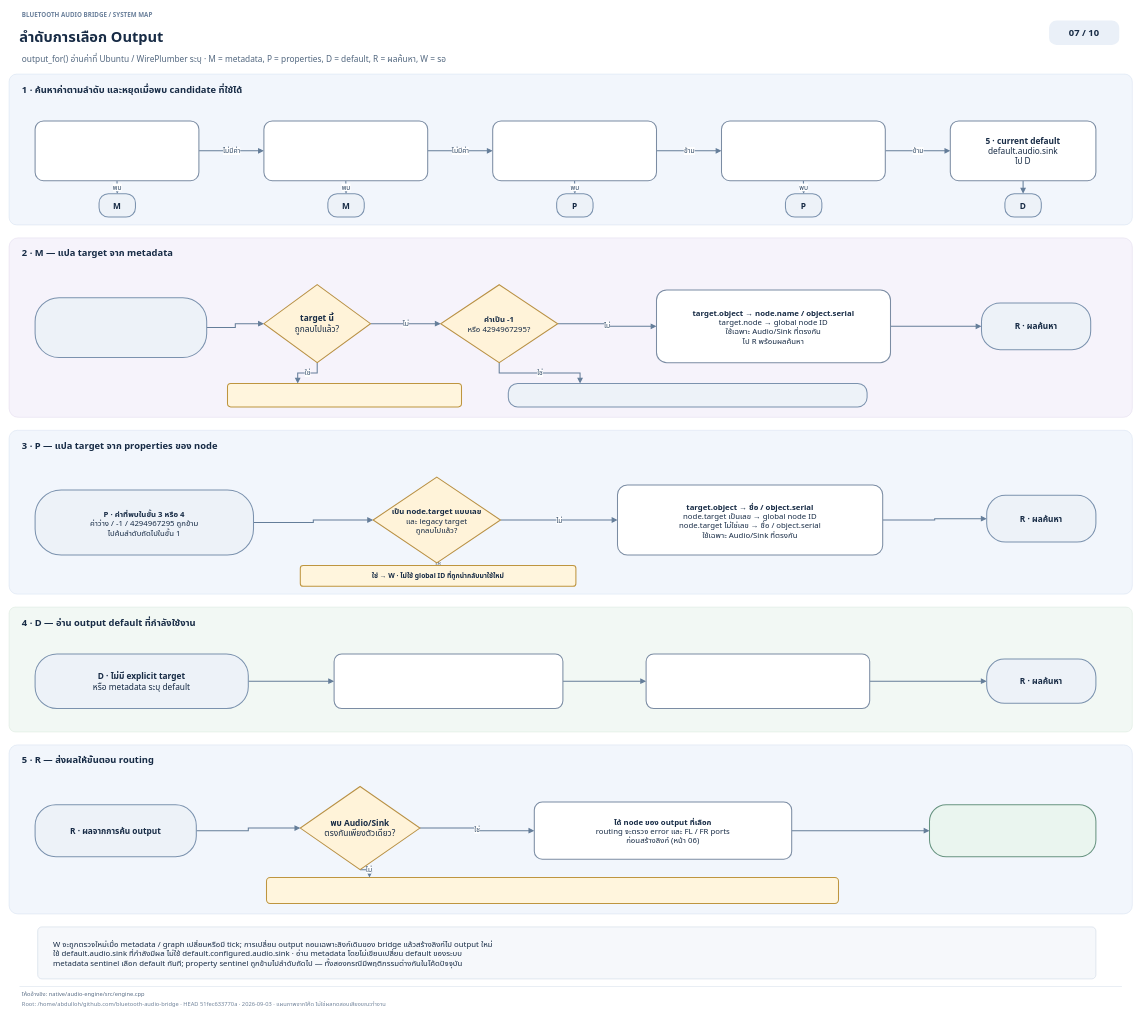
Image size: 1141x1016. Some labels were removed from this diagram. The shapes that lost their labels are listed below. From the top down, each one's centre as x and y in pixels, then its label:
At (116,150): "1 · metadata ของ stream target.object ค่าที่ไม่ว่าง → M".
At (345,150): "2 · metadata ของ stream target.node ค่าที่ไม่ว่าง → M".
At (574,150): "3 · property ของ node target.object ค่าไม่ว่างและไม่ใช่ sentinel → P".
At (803,150): "4 · property ของ node node.target ค่าไม่ว่างและไม่ใช่ sentinel → P".
At (120,327): "M · ค่าที่พบในขั้น 1 หรือ 2 ตรวจสถานะ target_removed ก่อน".
At (344,395): "ใช่ → W · รอ target ใหม่".
At (687,395): "ใช่ → D · ใช้ default ทันที ไม่อ่าน target ลำดับถัดไป".
At (448,681): "อ่าน metadata subject 0 default.audio.sink ดึงชื่อ node จากค่า JSON".
At (757,681): "ค้น Audio/Sink ด้วย node.name / object.serial".
At (1012,830): "คืน output ให้ input นี้".
At (552,890): "ไม่ → W · คืนผลว่างและรอ; ไม่เปลี่ยนไป default หาก explicit target ที่เลือกไม่พบ".
